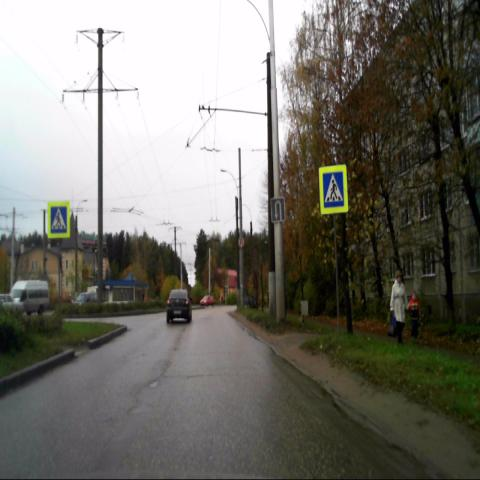6_3_1: (270, 196, 285, 222)
